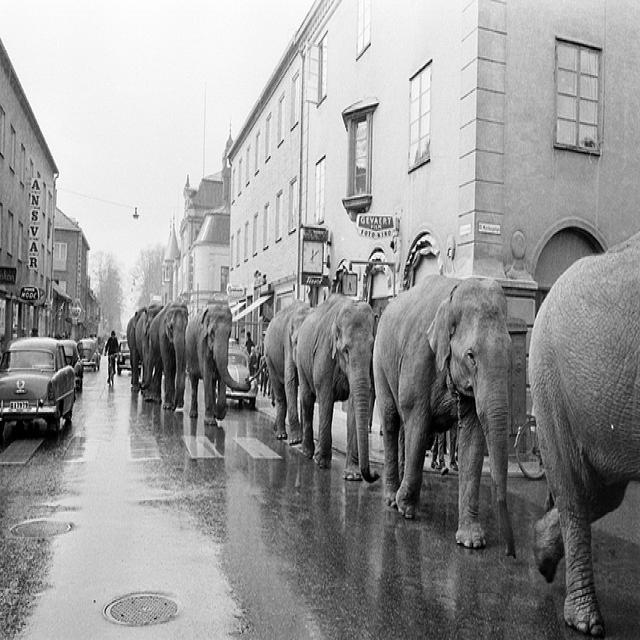Vehicle: (1, 341, 75, 435), (225, 339, 257, 408), (60, 340, 84, 389), (117, 340, 142, 378), (77, 340, 101, 372), (90, 333, 106, 349)
